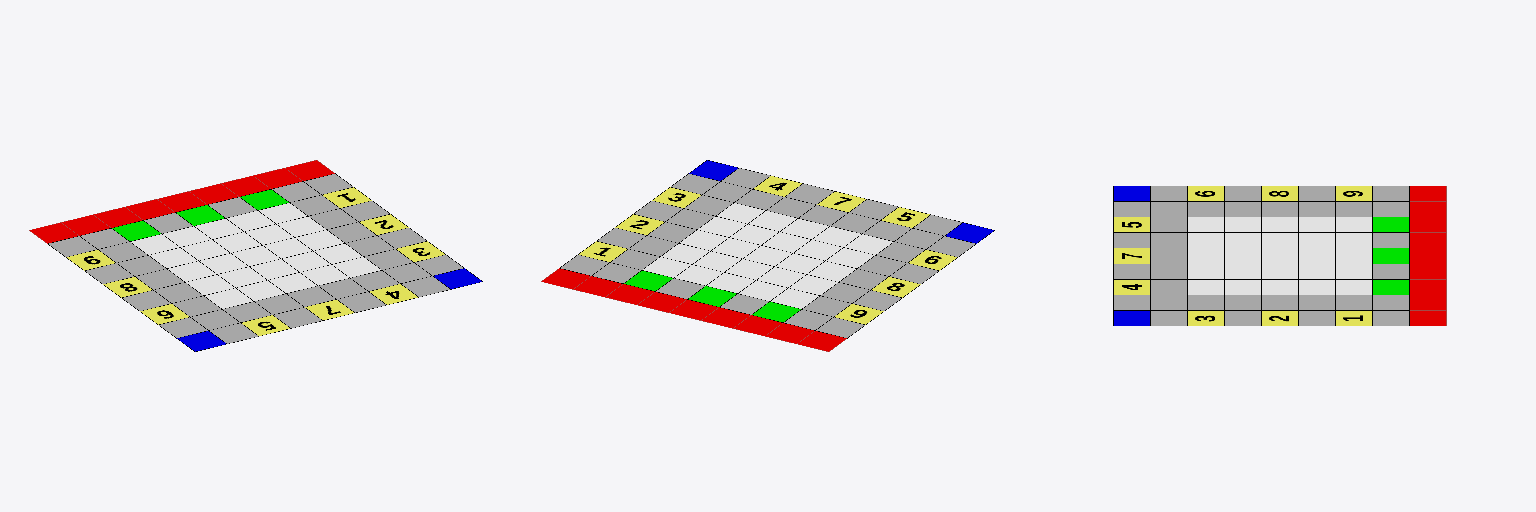
The picture shows the model from 3 angles: view 1: azimuth 30°, elevation 25°; view 2: azimuth 150°, elevation 25°; view 3: azimuth 270°, elevation 25°; orthographic projection.
Parts seen in each view (by area): view 1: Plane; view 2: Plane; view 3: Plane.
Part boxes in pixels (x1,y1,x2,y2): Plane: (29, 160, 482, 351); Plane: (541, 160, 994, 351); Plane: (1113, 186, 1446, 325).
Bounding box in the file's own units: 9 × 0 × 9.
1 materials, 1 textured.